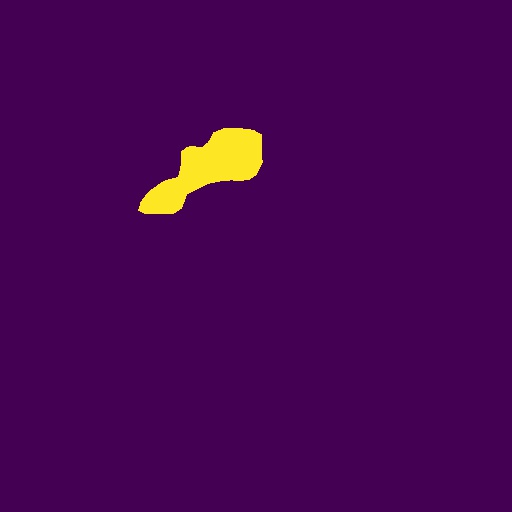Gliomia_tumour: (138, 128, 263, 214)
